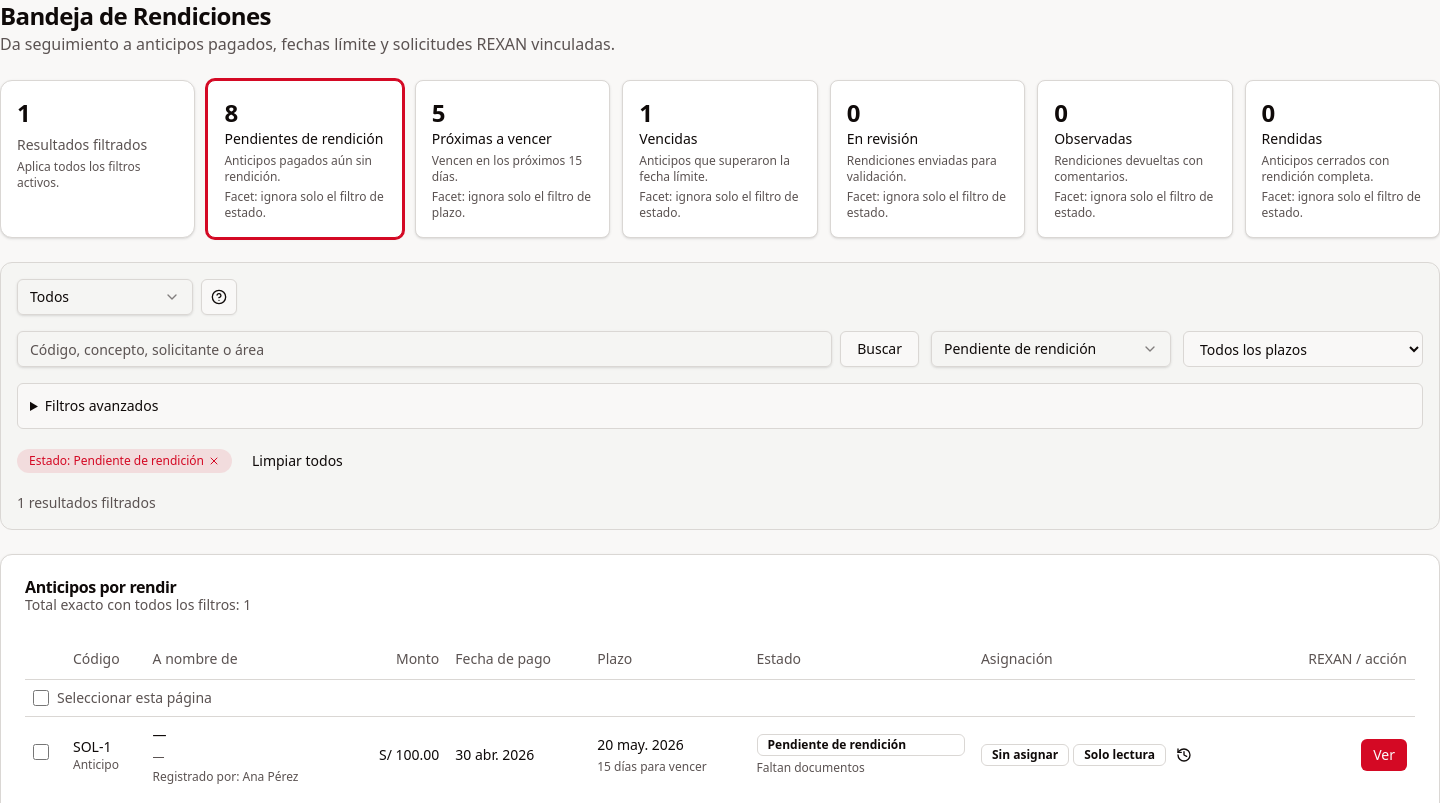
Test: RenditionsInboxPage › integra selección dirigida Gestor REXAN
Click the checkbox named "Seleccionar SOL-1 para asignar": click(41, 752) top-left (33, 744), bottom-right (49, 760)
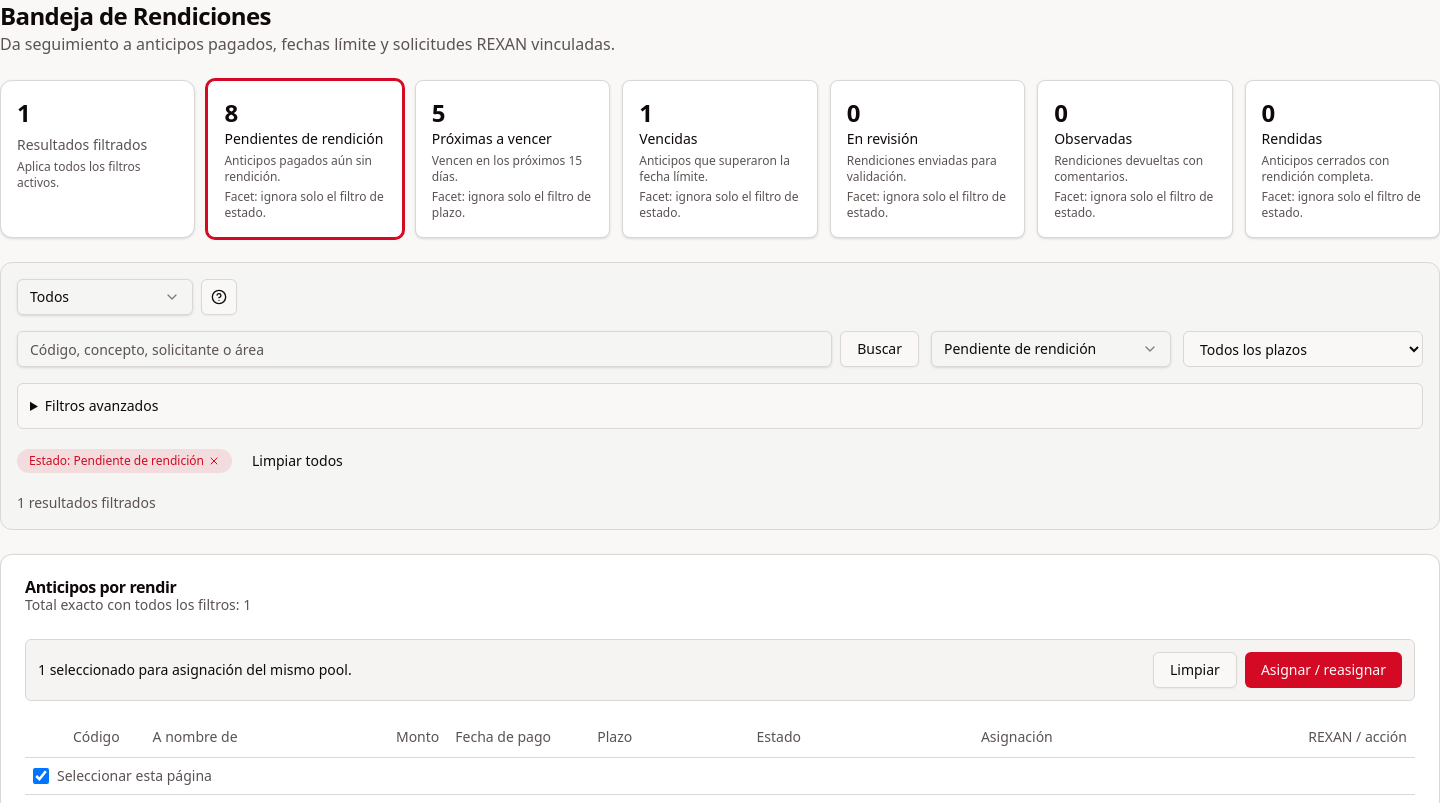
Click the button "Asignar / reasignar": click(1323, 670) top-left (1245, 652), bottom-right (1402, 688)
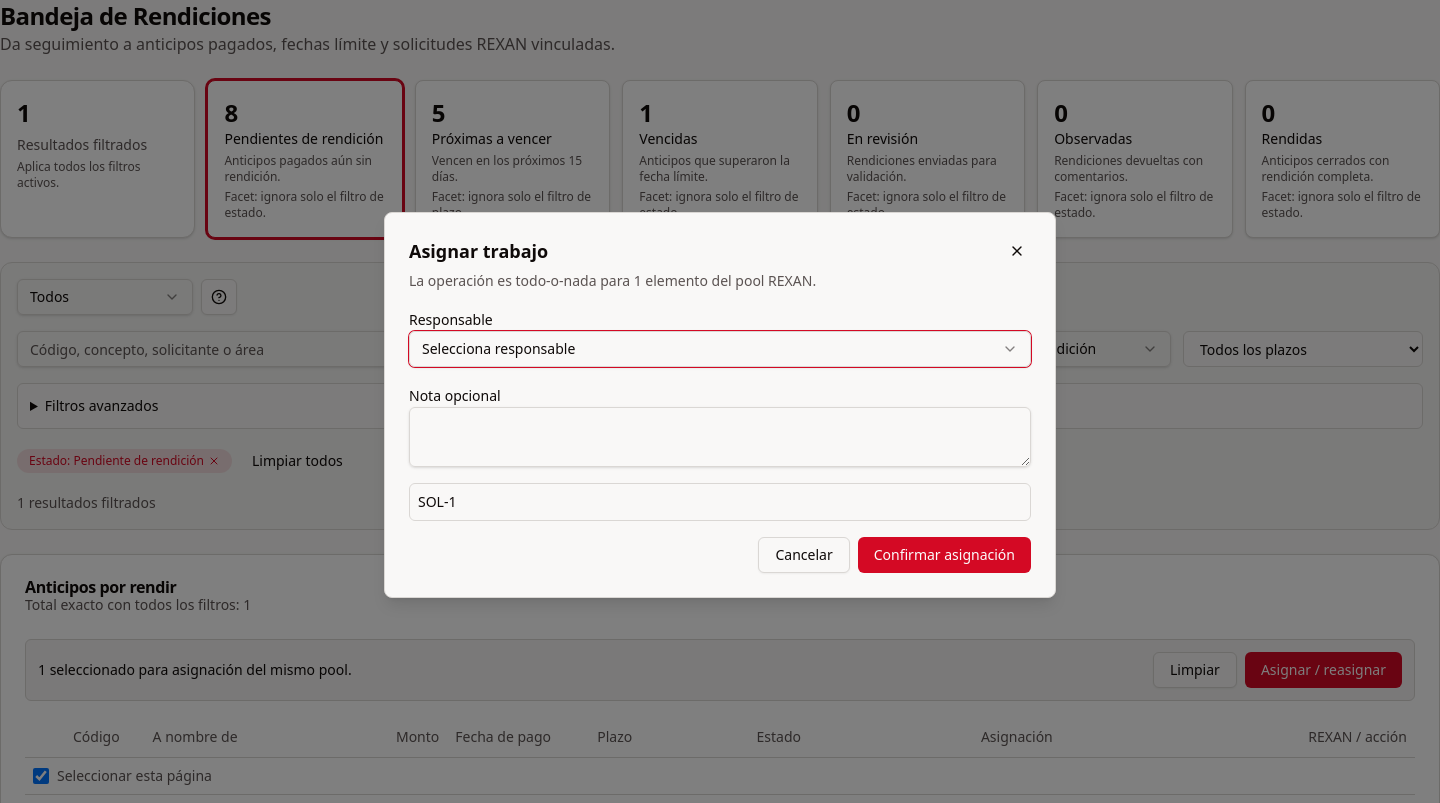
Check: the text "Responsable" is shown, box top-left (409, 310), bottom-right (493, 329)
